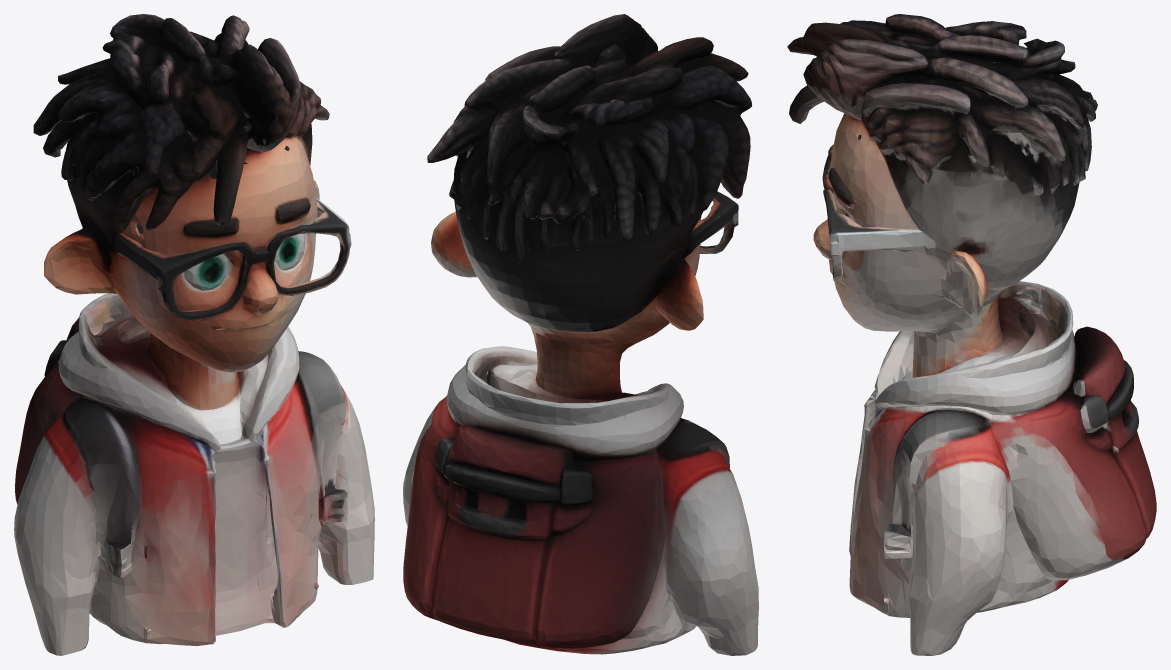
File: garcon2.glb
The picture shows the model from 3 angles, left to right: view 1: azimuth 30°, elevation 25°; view 2: azimuth 150°, elevation 25°; view 3: azimuth 270°, elevation 25°; orthographic projection. The views are drawn at different scales.
Parts seen in each view (by area): view 1: world; view 2: world; view 3: world.
Part boxes in pixels (box(x1,y1,x2,y2)): world: box(14, 14, 374, 655); world: box(403, 14, 758, 655); world: box(787, 14, 1156, 655).
Size of the model in its own units: 0.5815 by 0.9265 by 0.5624.
Materials: 1 (1 with a texture image).
